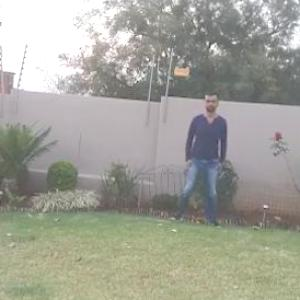follow: (176, 87, 229, 232)
